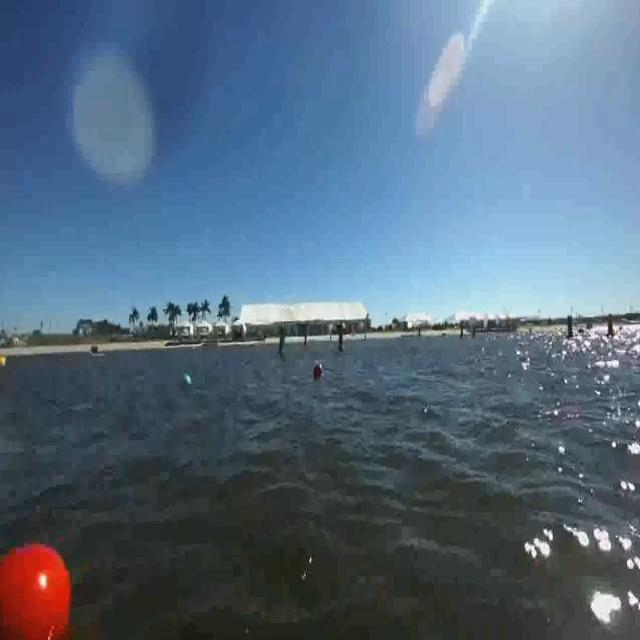green-buoy: (182, 374, 192, 397)
green-column-buoy: (277, 326, 288, 356)
red-buoy: (0, 539, 73, 640), (312, 367, 323, 378)
yellow-buoy: (0, 353, 8, 368)
